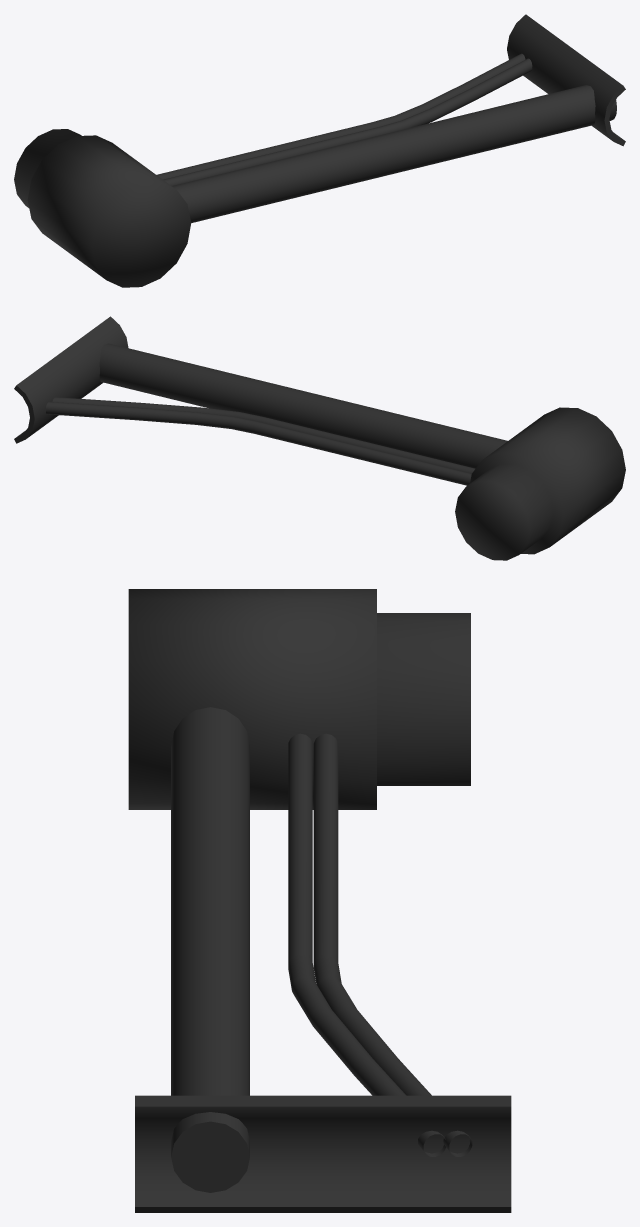
Rendered from Basket_x700_y0.obj.
3 renders of one model, top to bottom at view 1: azimuth 30°, elevation 25°; view 2: azimuth 150°, elevation 25°; view 3: azimuth 270°, elevation 25°, orthographic. The views are drawn at different scales.
Parts seen in each view (by area): view 1: Leuchtenadapter_BezierCurve.009, Querträger_Cylinder.005, Mastklemme_Klemme.001, Querstrebe_1_BezierCurve.008, Querstrebe_2_BezierCurve.007; view 2: Leuchtenadapter_BezierCurve.009, Querträger_Cylinder.005, Querstrebe_2_BezierCurve.007, Mastklemme_Klemme.001, Querstrebe_1_BezierCurve.008; view 3: Leuchtenadapter_BezierCurve.009, Mastklemme_Klemme.001, Querträger_Cylinder.005, Querstrebe_1_BezierCurve.008, Querstrebe_2_BezierCurve.007.
Boxes of the visible parts, x1,y1,x2,y2 form: Leuchtenadapter_BezierCurve.009: [14, 129, 191, 287]; Querträger_Cylinder.005: [172, 85, 616, 222]; Mastklemme_Klemme.001: [507, 14, 625, 146]; Querstrebe_1_BezierCurve.008: [163, 58, 532, 185]; Querstrebe_2_BezierCurve.007: [157, 53, 525, 179]; Leuchtenadapter_BezierCurve.009: [455, 407, 625, 560]; Querträger_Cylinder.005: [99, 343, 507, 468]; Querstrebe_2_BezierCurve.007: [46, 402, 471, 485]; Mastklemme_Klemme.001: [14, 316, 128, 443]; Querstrebe_1_BezierCurve.008: [52, 397, 475, 473]; Leuchtenadapter_BezierCurve.009: [128, 589, 470, 809]; Mastklemme_Klemme.001: [135, 1095, 511, 1212]; Querträger_Cylinder.005: [171, 707, 249, 1192]; Querstrebe_1_BezierCurve.008: [288, 733, 445, 1156]; Querstrebe_2_BezierCurve.007: [313, 733, 472, 1156].
Bounding box in the file's own units: 0.7562 × 0.14 × 0.2424.
1 material, 1 textured.
